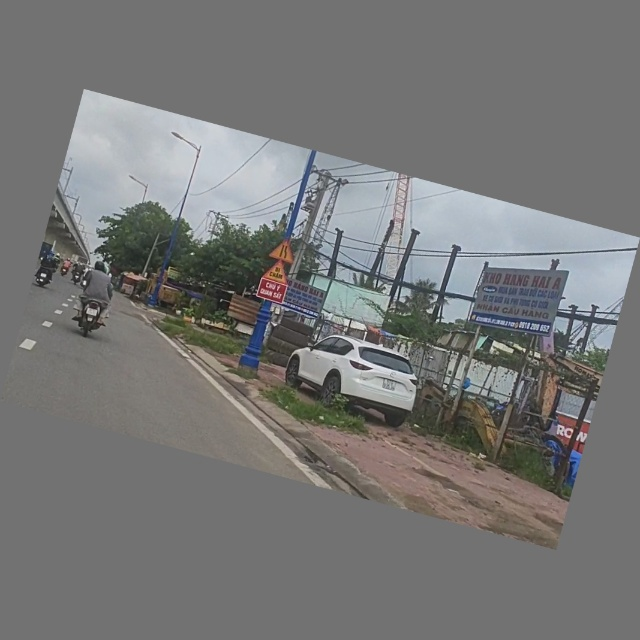W.203c: (268, 237, 299, 266)
W.245a: (262, 259, 296, 286)
